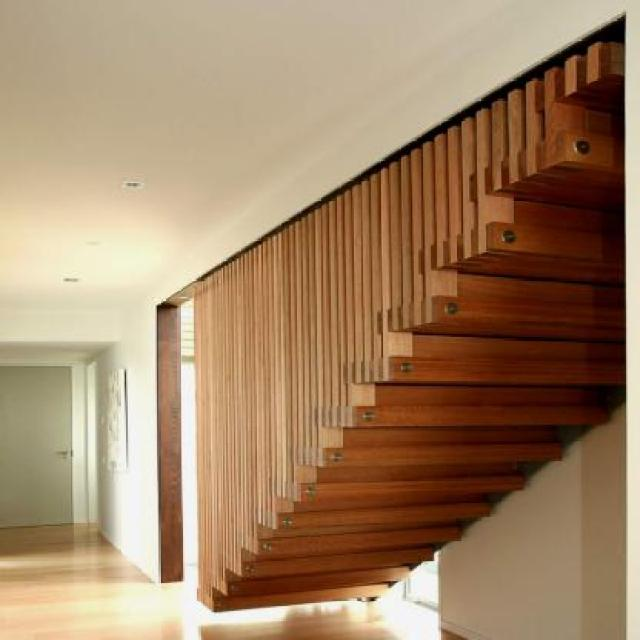stair: (180, 92, 611, 628)
